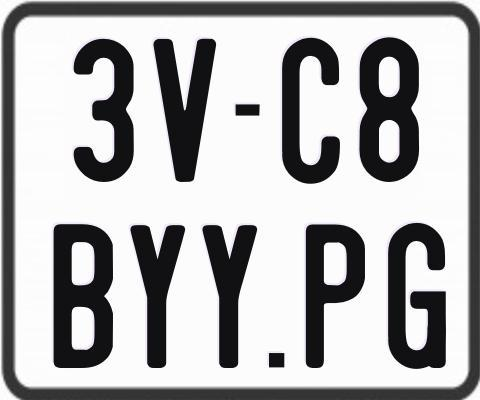3: (72, 39, 135, 188)
8: (356, 34, 416, 182)
B: (52, 222, 111, 370)
C: (282, 36, 342, 186)
G: (387, 223, 448, 370)
P: (303, 221, 363, 370)
V: (154, 37, 222, 186)
Y: (130, 222, 187, 367), (202, 225, 258, 372)
